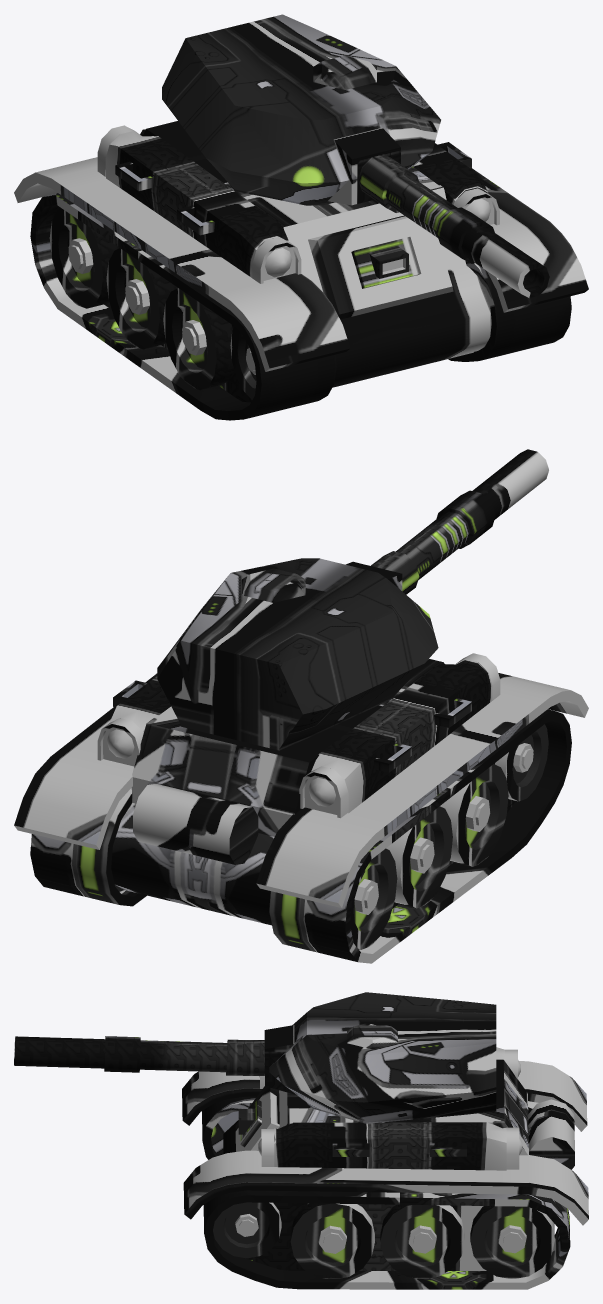
The model's file is tank.fbx.
3 renders of one model, top to bottom at view 1: azimuth 30°, elevation 25°; view 2: azimuth 150°, elevation 25°; view 3: azimuth 270°, elevation 25°, orthographic. The views are drawn at different scales.
Visible parts, largest first — view 1: tank; view 2: tank; view 3: tank.
Part boxes in pixels (x1,y1,x2,y2): tank: [14, 14, 588, 420]; tank: [14, 449, 588, 963]; tank: [14, 992, 588, 1289].
Bounding box in the file's own units: 123 × 96.09 × 236.
